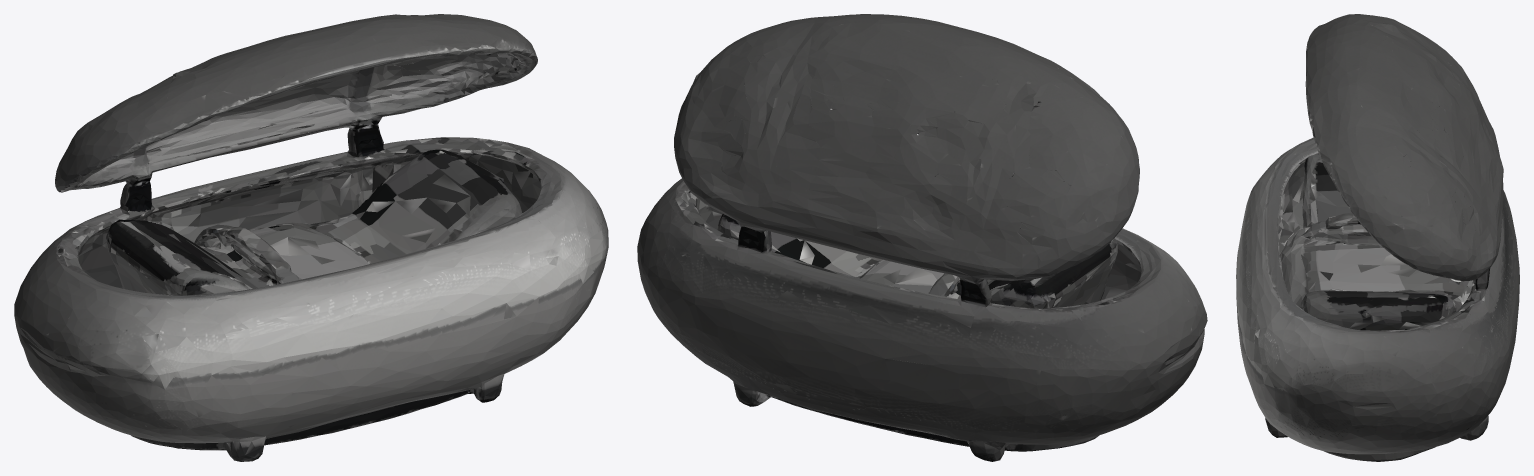
File: pod-v2.glb
The picture shows the model from 3 angles, left to right: view 1: azimuth 30°, elevation 25°; view 2: azimuth 150°, elevation 25°; view 3: azimuth 270°, elevation 25°; orthographic projection. The views are drawn at different scales.
Visible parts, largest first — view 1: Pod; view 2: Pod; view 3: Pod.
Part boxes in pixels (bbox=[...]): Pod: bbox=[14, 14, 608, 461]; Pod: bbox=[637, 14, 1207, 461]; Pod: bbox=[1236, 14, 1519, 461].
Bounding box in the file's own units: 2 × 1.28 × 1.01.
1 material, 1 textured.
